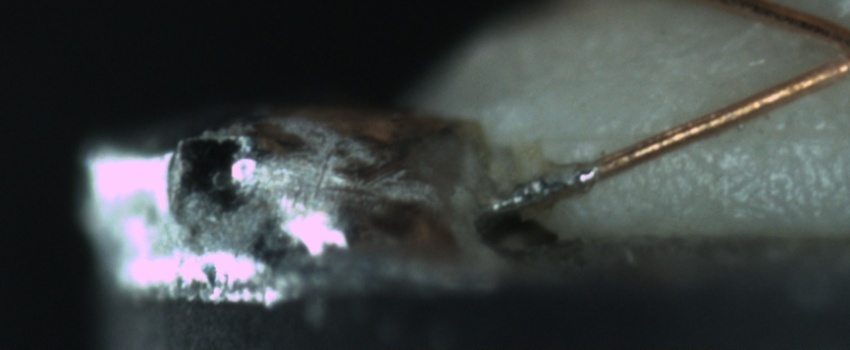CL: (808, 10, 850, 84)
DL: (556, 102, 850, 162)
TS: (478, 162, 600, 219)
TTCW: (481, 145, 640, 216)
